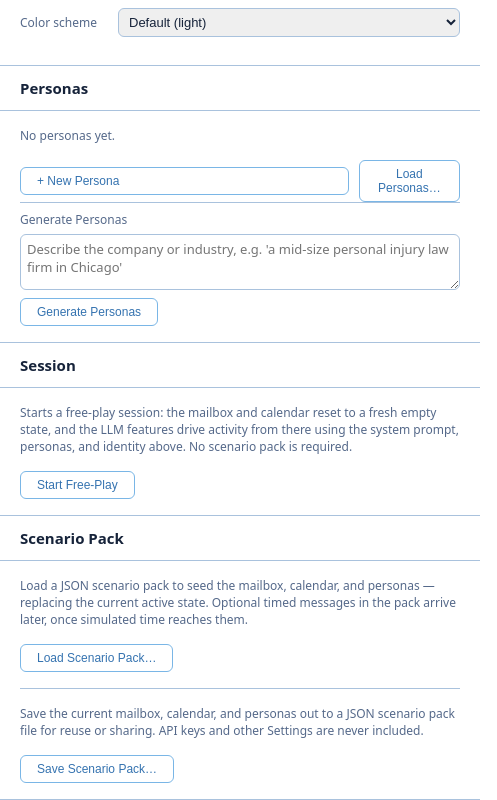
Test case: SettingsView › Session › starts free-play with no confirmation prompt when the mailbox/calendar is already empty
(page scrolled)
Click the button "Start Free-Play".
click(77, 485)  # box left=20, top=471, right=135, bottom=499
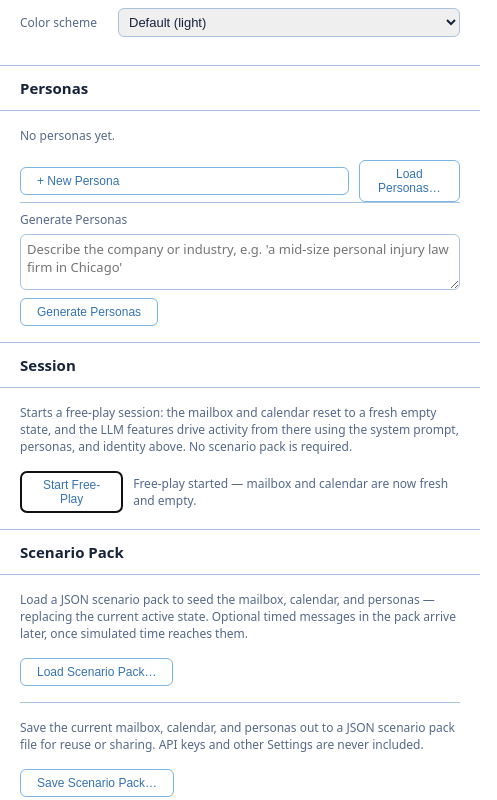
Result: the text "fresh and empty" is shown at left=133, top=475, right=448, bottom=509
